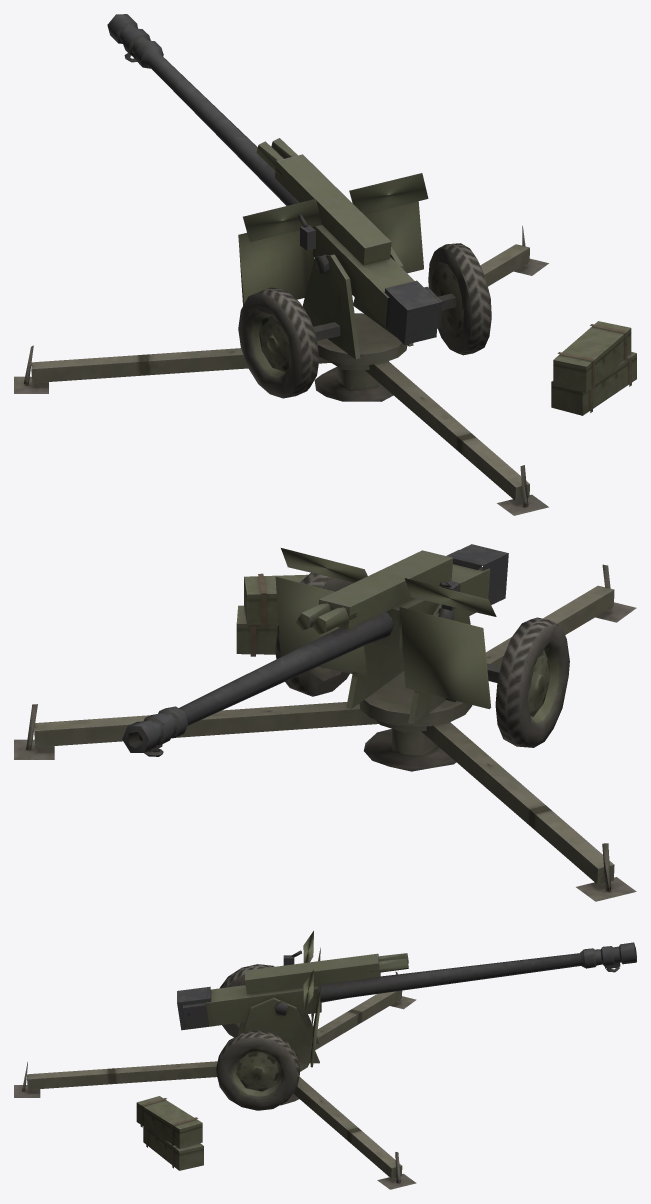
Rendered from artillery_lod1.glb.
3 renders of one model, top to bottom at view 1: azimuth 30°, elevation 25°; view 2: azimuth 150°, elevation 25°; view 3: azimuth 270°, elevation 25°, orthographic. The views are drawn at different scales.
Parts seen in each view (by area): view 1: turret, trails, barrel; view 2: turret, trails, barrel; view 3: barrel, trails, turret.
Boxes of the visible parts, x1,y1,x2,y2 form: turret: [238, 173, 491, 398]; trails: [14, 225, 636, 515]; barrel: [107, 14, 442, 344]; turret: [275, 548, 569, 747]; trails: [14, 564, 636, 901]; barrel: [122, 544, 508, 756]; barrel: [177, 942, 636, 1030]; trails: [14, 971, 416, 1189]; turret: [215, 931, 320, 1110].
Bounding box in the file's own units: 6.04 × 2.14 × 8.09.
Materials: 1 (1 with a texture image).
